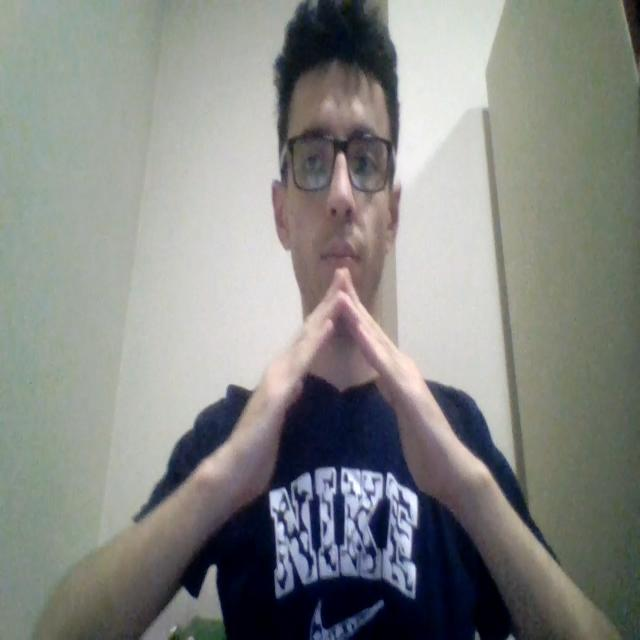house: (198, 273, 476, 516)
